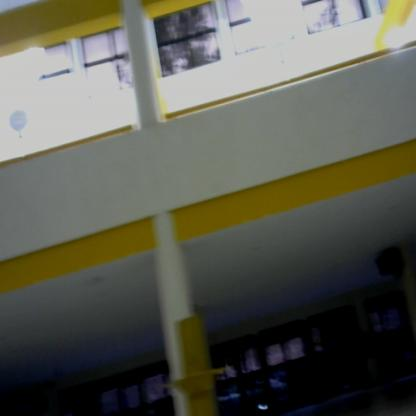pole: (167, 308, 227, 416)
